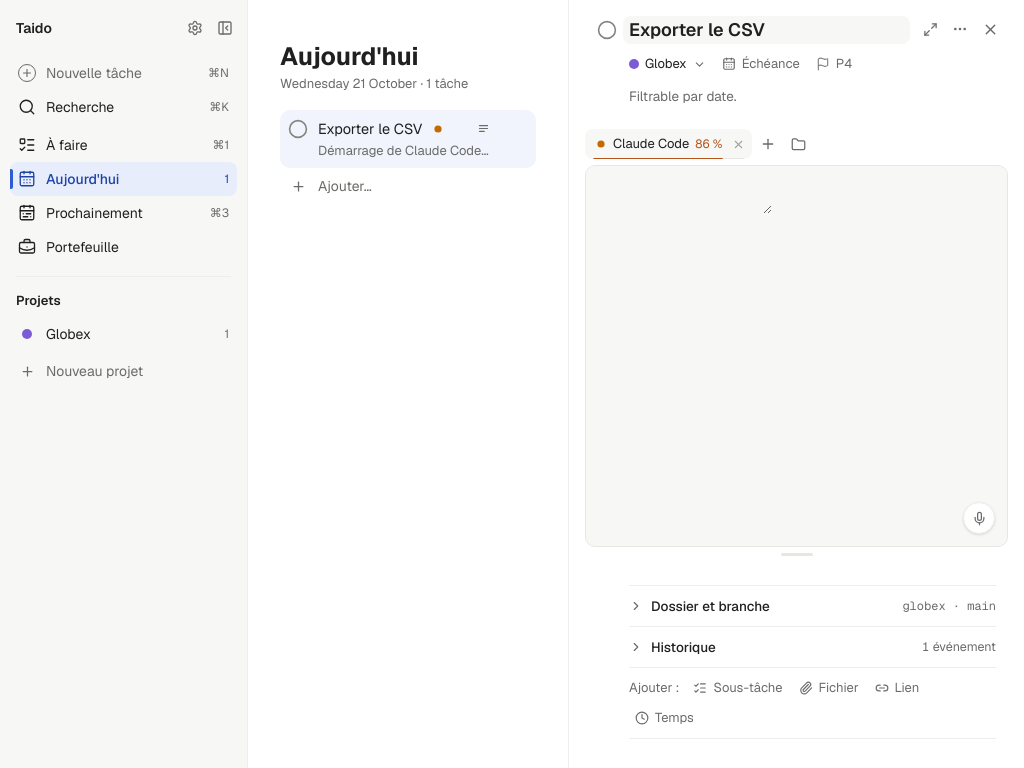
Test: terminals in the task panel › shows how full Claude's memory is under the active tab (option C)
expect the text box named "Titre de la tâche" is shown: met, box [623,16,910,44]
expect the text with test id "context-peek" reads "86 %": met, box [695,135,722,153]
// Hovering the tab opens the details.
Hover over the tab "Claude Code 86 %": (656, 144) [585,129,726,159]
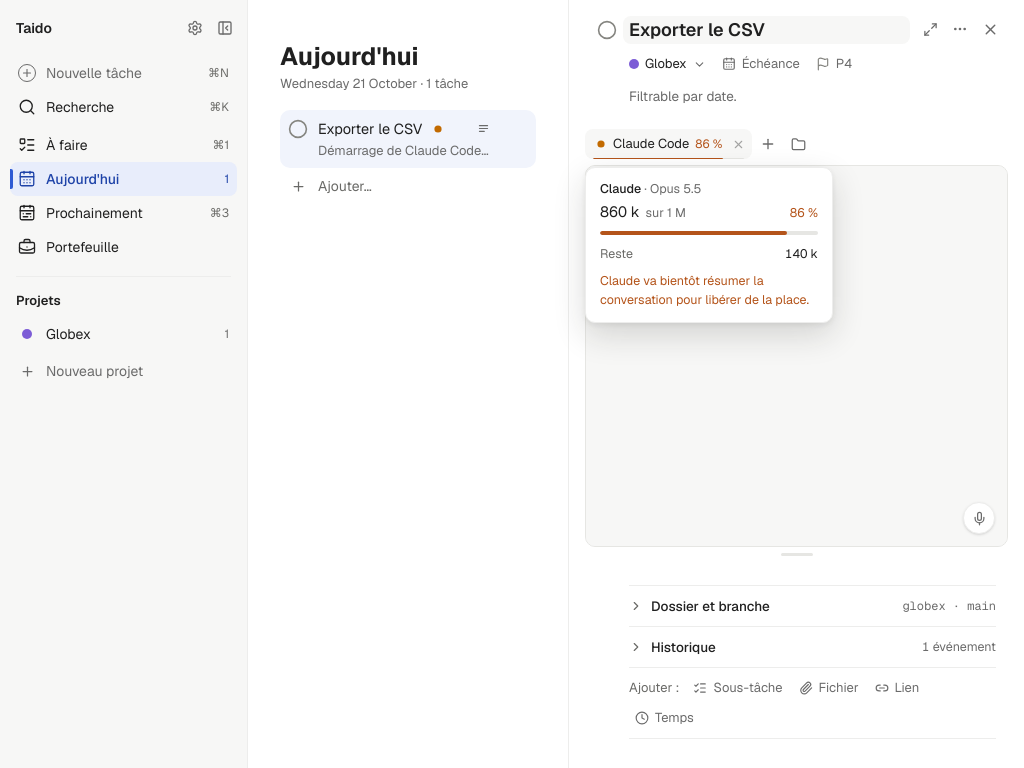
expect the element with test id "context-bubble" shows "Claude · Opus 5.5": met, box [585,167,833,322]
expect the element with test id "context-bubble" shows "860 k": met, box [600,202,640,221]
expect the element with test id "context-bubble" shows "sur 1 M": met, box [646,204,686,221]
Move the pointer off the tab "Claude Code 86 %", box [585,129,726,159]
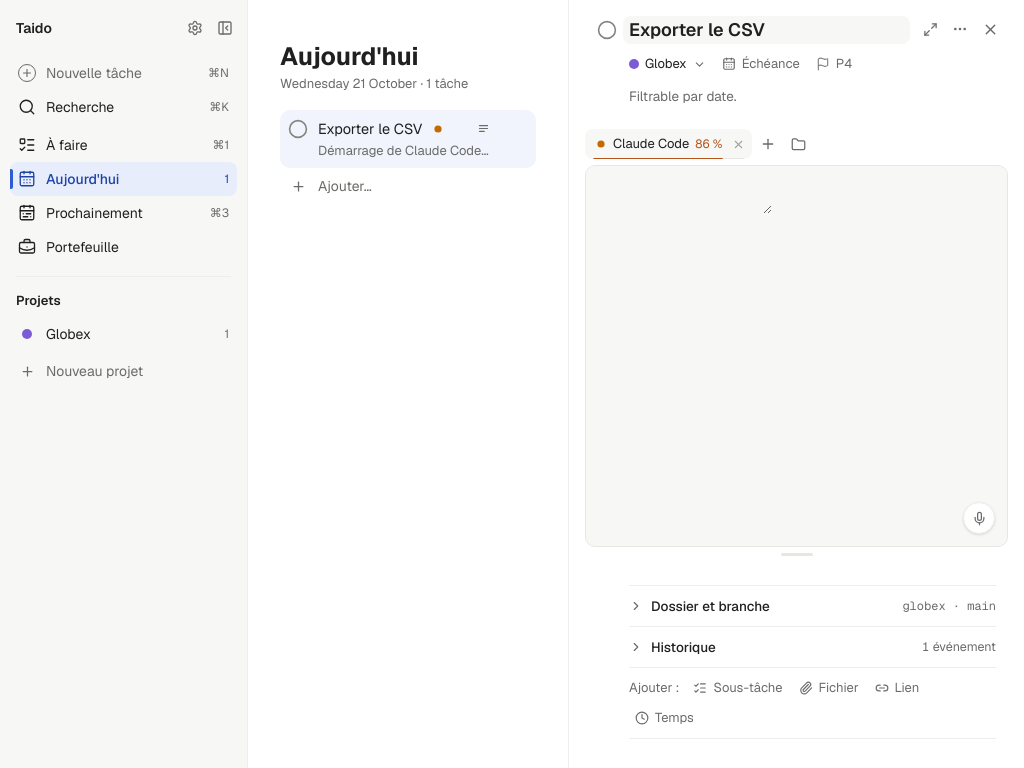
expect the element with test id "context-bubble" is gone: met
